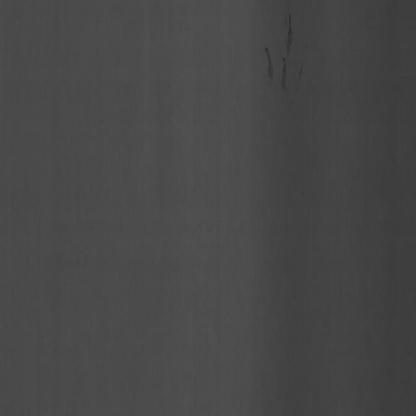water_spot: (255, 15, 305, 106)
